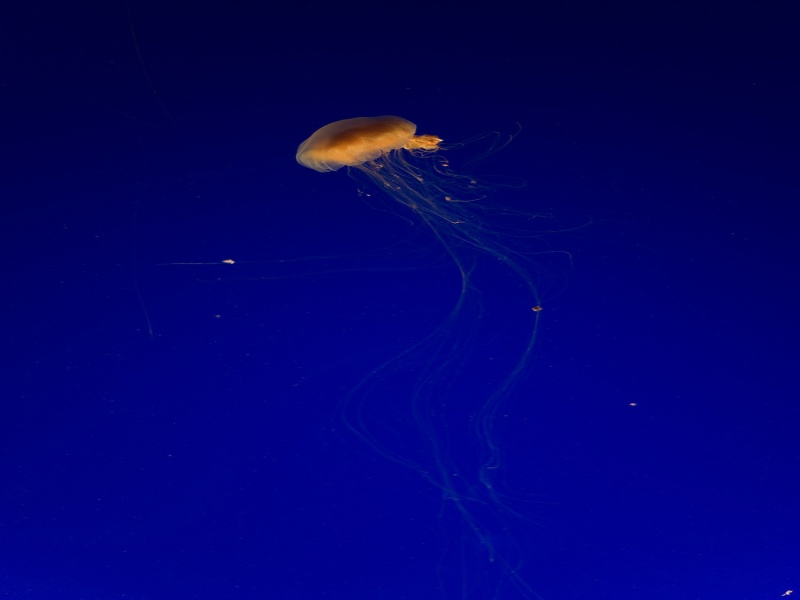Jellyfish: (282, 112, 516, 323), (285, 110, 476, 172)
